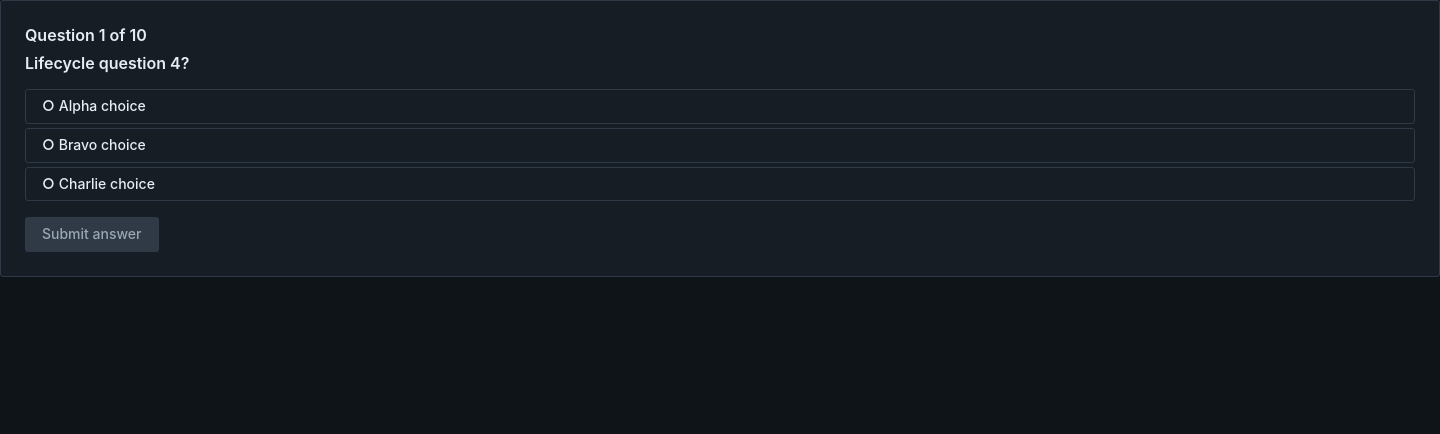
QuestionRun lifecycle: ten questions, then the end › does not advance on submission alone — feedback stays until Next
Click the button "○Alpha choice" at x=102, y=106, box [25, 89, 1415, 124]
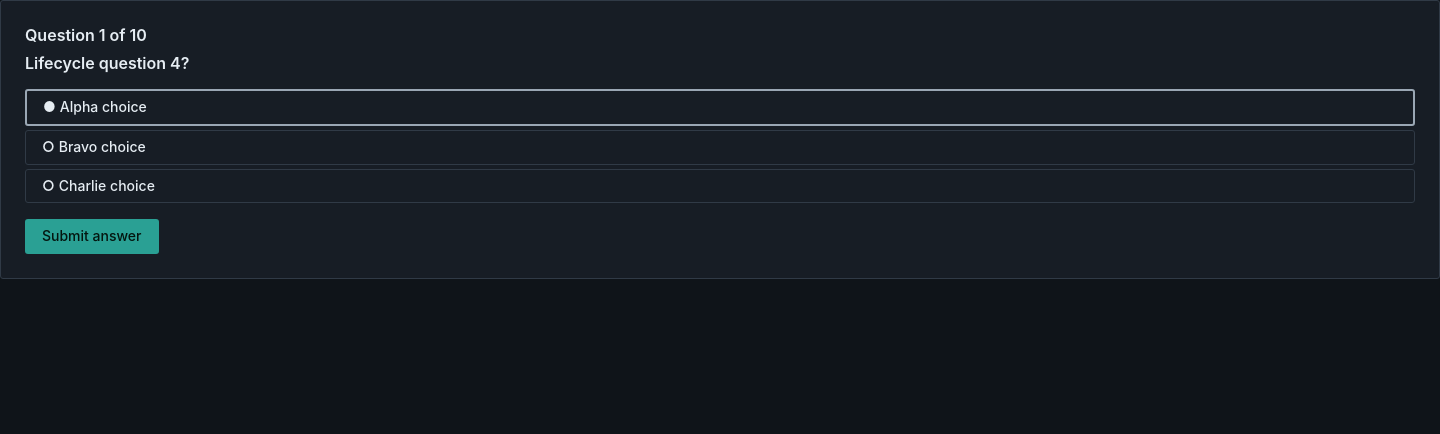
Click the button "Submit answer" at x=92, y=237, box [25, 219, 158, 254]
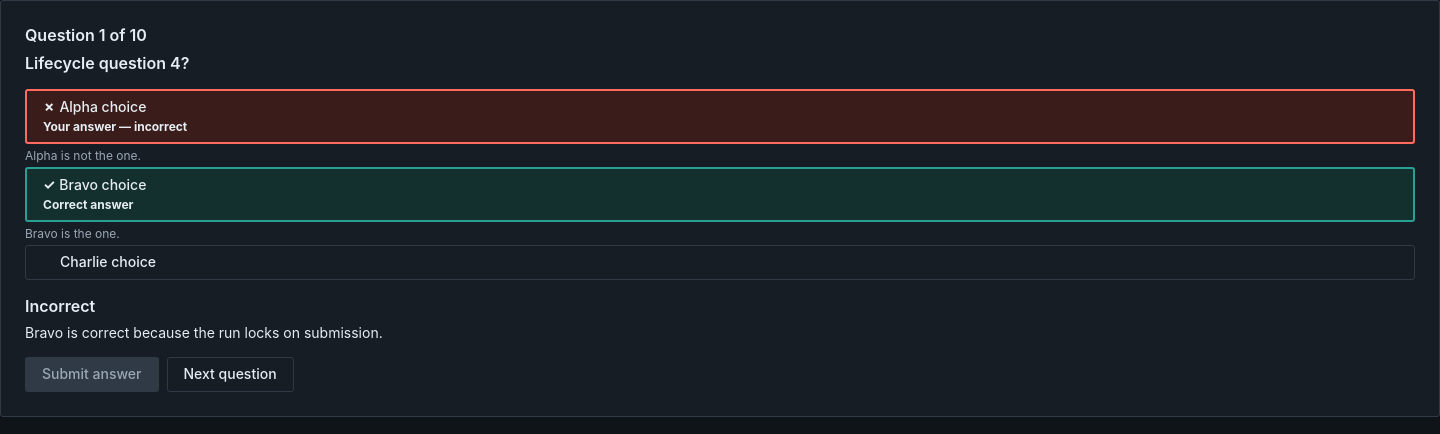
expect the heading "Question 1 of 10" is shown: met, box [25, 25, 147, 45]
expect the message "Incorrect Bravo is correct because the run locks on submission." is shown: met, box [25, 296, 383, 341]
expect the button "Next question" is shown: met, box [166, 357, 294, 392]
